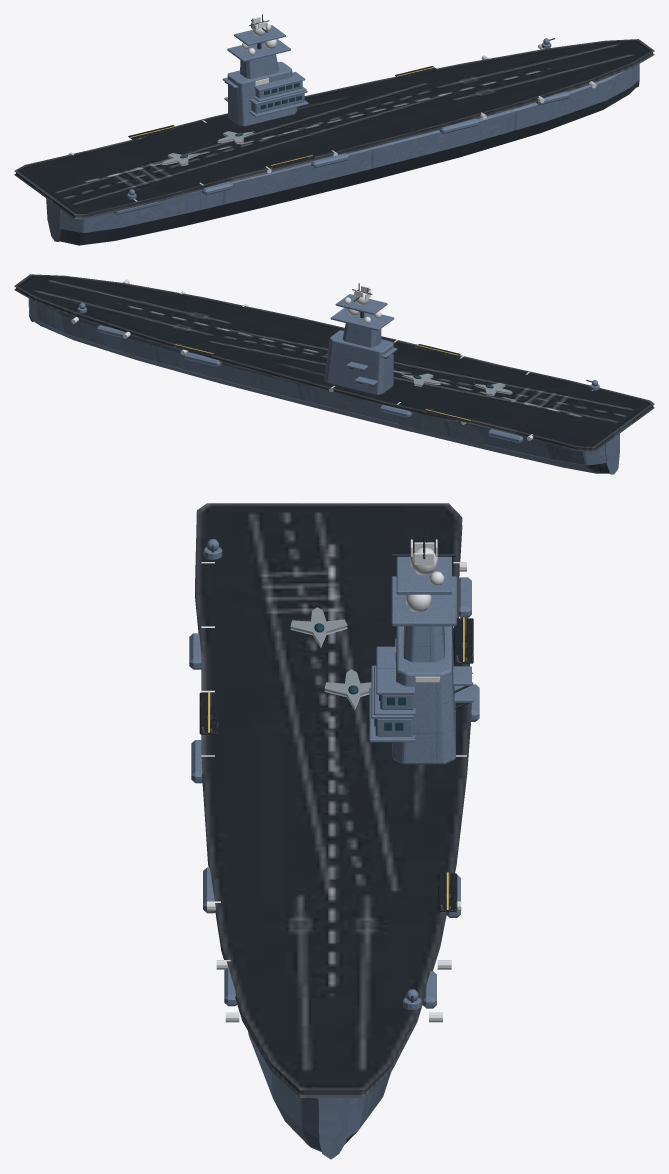
Rendered from carrier-blender.glb.
The picture shows the model from 3 angles, top to bottom: view 1: azimuth 30°, elevation 25°; view 2: azimuth 150°, elevation 25°; view 3: azimuth 270°, elevation 25°; orthographic projection. The views are drawn at different scales.
Visible parts, largest first — view 1: Carrier_Flight_Deck, Carrier_Hull, Island_Main_Vertical_Slab, Island_Upper_Sensor_Tower, Island_Mast_Platform_1, Island_Mast_Platform_2, Island_Bridge_1_Flight_Control, Island_Bridge_2_Roof; view 2: Carrier_Flight_Deck, Carrier_Hull, Island_Main_Vertical_Slab, Island_Upper_Sensor_Tower, Island_Mast_Platform_1, Island_Mast_Platform_2; view 3: Carrier_Flight_Deck, Island_Main_Vertical_Slab, Carrier_Hull, Island_Mast_Platform_1, Island_Mast_Platform_2, Island_Upper_Sensor_Tower, Island_Bridge_2_Roof, Aircraft_01.
Part boxes in pixels (<box>): Carrier_Flight_Deck: <box>14,39,654,219</box>; Carrier_Hull: <box>46,64,639,245</box>; Island_Main_Vertical_Slab: <box>227,61,297,126</box>; Island_Upper_Sensor_Tower: <box>240,54,278,78</box>; Island_Mast_Platform_1: <box>227,39,290,61</box>; Island_Mast_Platform_2: <box>234,25,285,45</box>; Island_Bridge_1_Flight_Control: <box>251,93,304,113</box>; Island_Bridge_2_Roof: <box>254,72,305,91</box>; Carrier_Flight_Deck: <box>14,274,654,451</box>; Carrier_Hull: <box>28,298,619,474</box>; Island_Main_Vertical_Slab: <box>324,330,393,395</box>; Island_Upper_Sensor_Tower: <box>342,323,381,347</box>; Island_Mast_Platform_1: <box>330,308,394,330</box>; Island_Mast_Platform_2: <box>335,294,387,314</box>; Carrier_Flight_Deck: <box>195,503,471,1097</box>; Island_Main_Vertical_Slab: <box>392,626,455,764</box>; Carrier_Hull: <box>248,1031,390,1159</box>; Island_Mast_Platform_1: <box>391,576,456,626</box>; Island_Mast_Platform_2: <box>396,556,451,594</box>; Island_Upper_Sensor_Tower: <box>403,626,444,662</box>; Island_Bridge_2_Roof: <box>376,646,414,694</box>; Aircraft_01: <box>290,607,347,647</box>.
Bounding box in the file's own units: 50.16 × 12.25 × 10.48.
8 materials, 2 textured.
